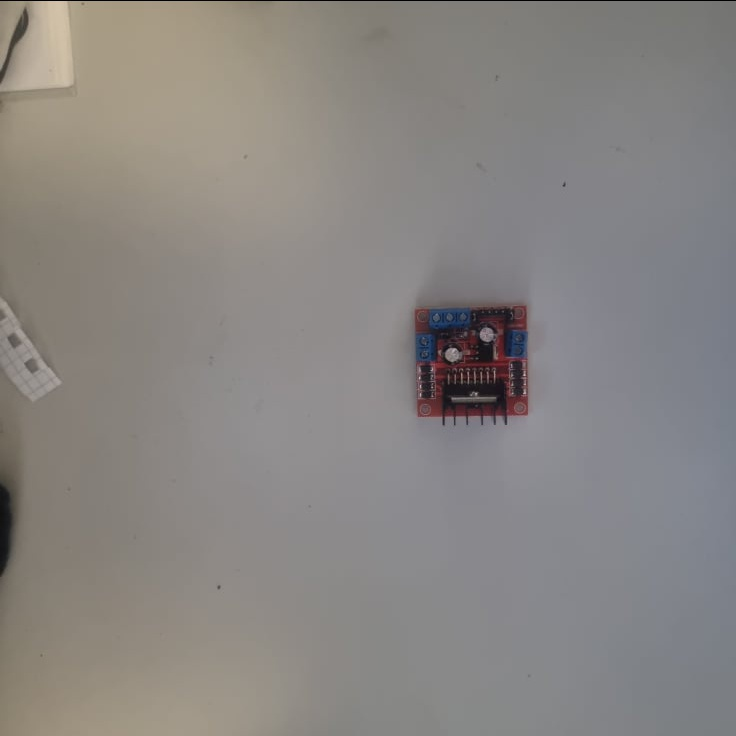MOTOR: (409, 305, 530, 425)
